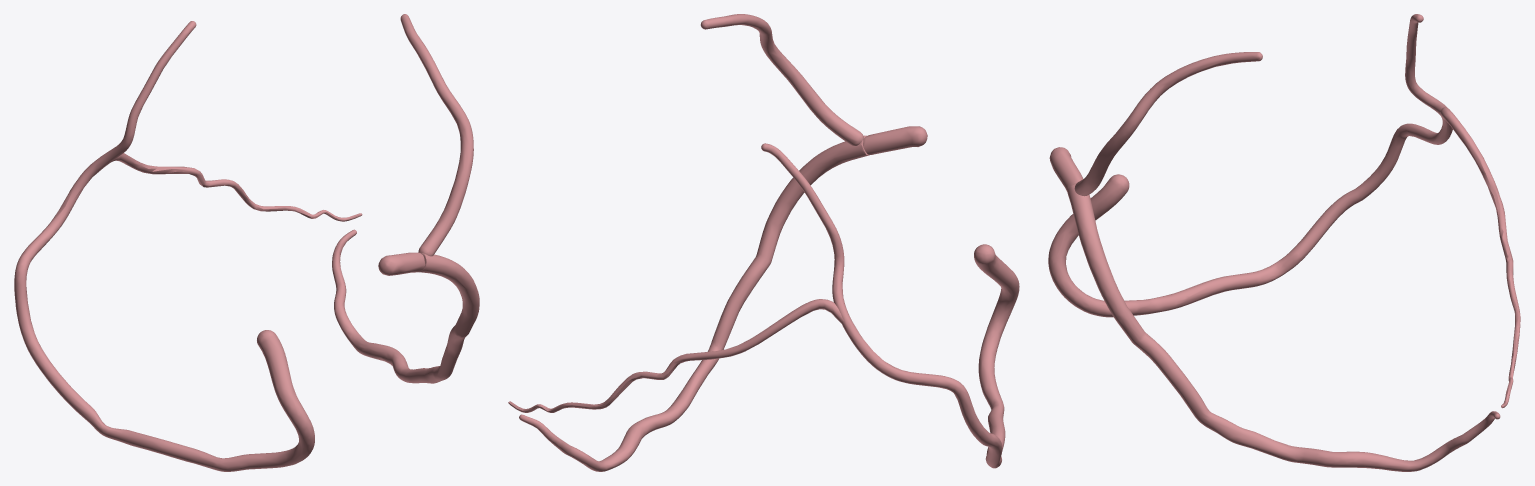
The model's file is coronary-arteries.glb.
The picture shows the model from 3 angles, left to right: view 1: azimuth 30°, elevation 25°; view 2: azimuth 150°, elevation 25°; view 3: azimuth 270°, elevation 25°; orthographic projection. The views are drawn at different scales.
Visible parts, largest first — view 1: structure; view 2: structure; view 3: structure.
Part boxes in pixels (<box>): structure: <box>14,14,479,471</box>; structure: <box>508,14,1019,471</box>; structure: <box>1048,14,1520,471</box>.
Size of the model in its own units: 87.32 by 81.03 by 85.19.
